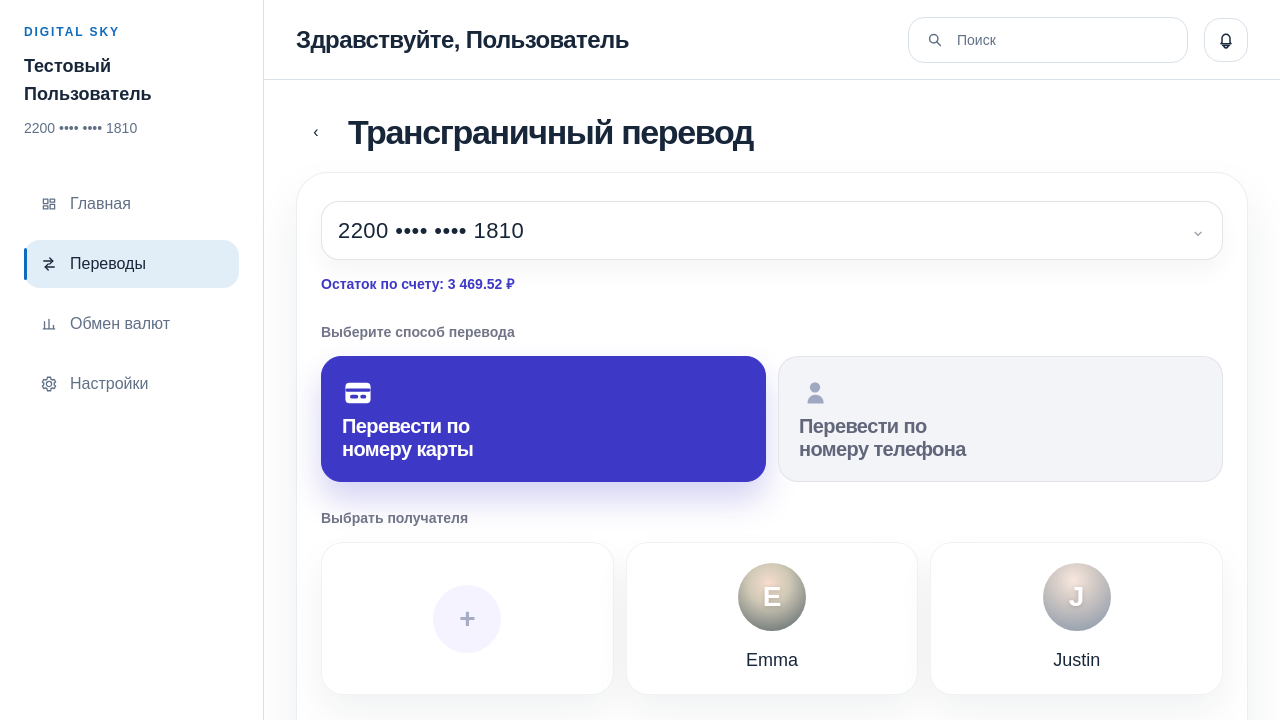
TransfersPage › switches the recipient label between card and phone transfer modes
Click the button "Перевести по номеру телефона": {"x": 815, "y": 393} [778,356,1223,482]
(page scrolled)
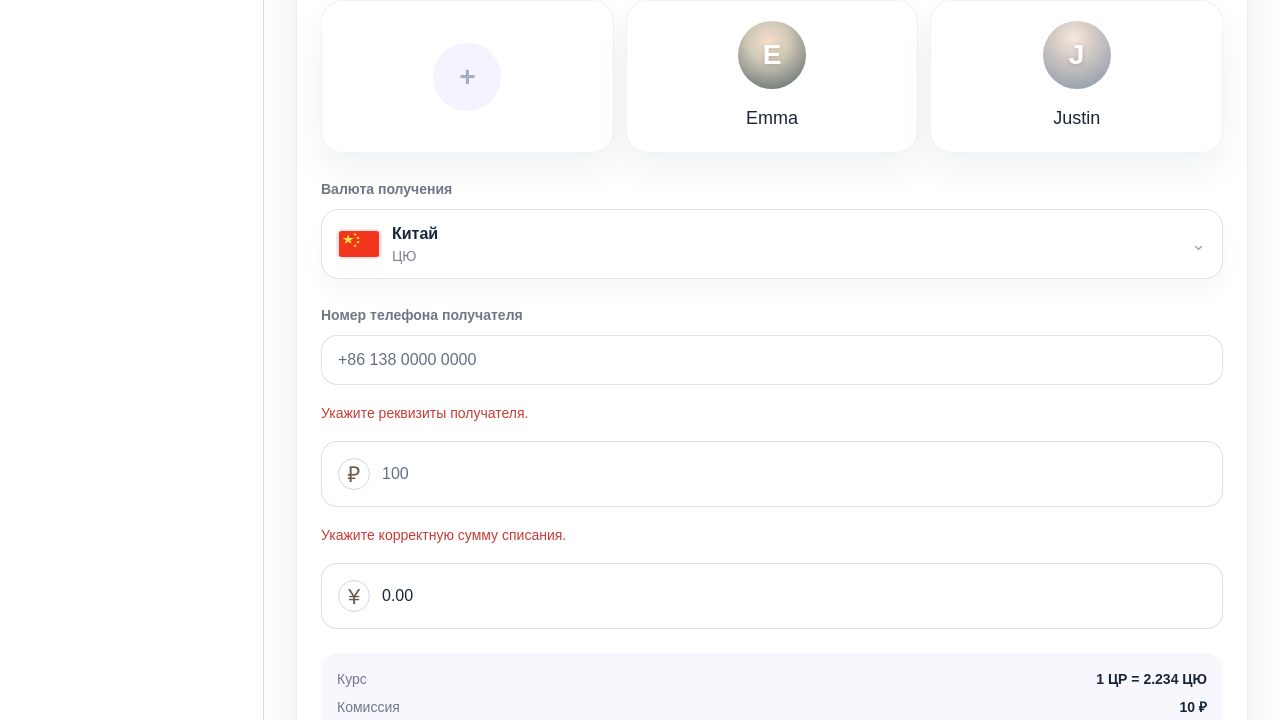
Now the field labelled "Номер телефона получателя" is shown, box [321,335,1223,385]
